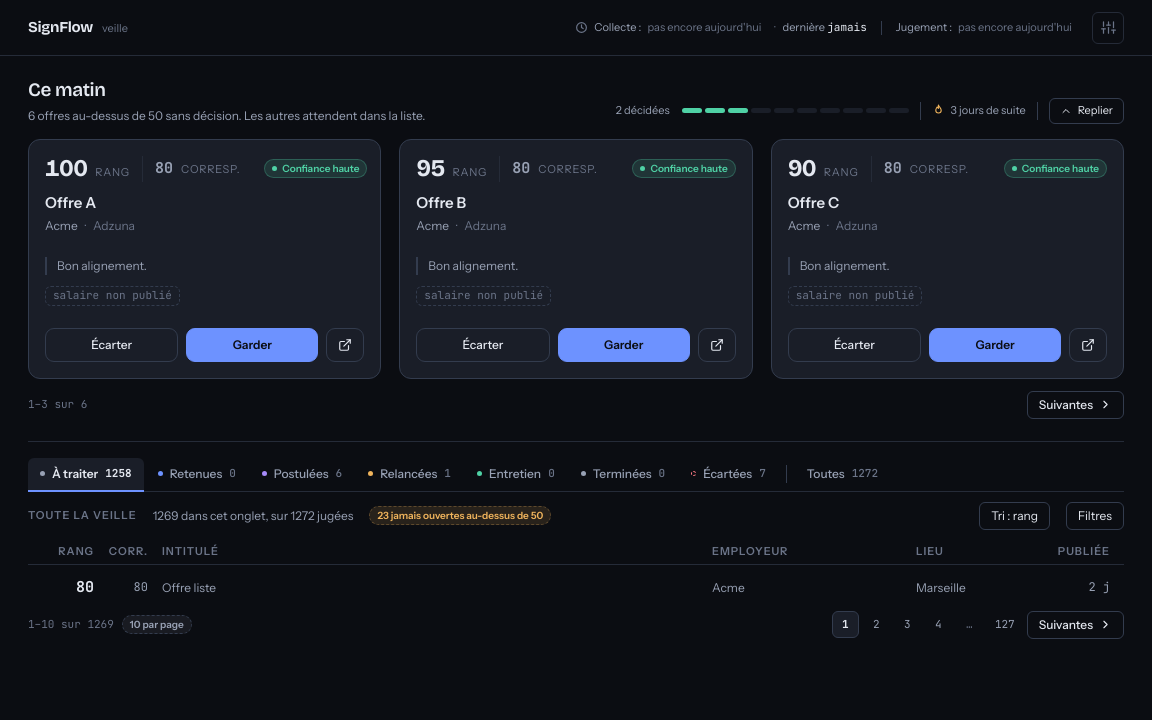
Test: MatinScreen › "Garder" appelle openOffer puis patchApplication({ status: "retenue" }), et retire la carte
Expected: the button "Offre A" is shown, x1=45 y1=193 x2=96 y2=212
What coordinates should you click on to do the following:
click the button "Garder" below "100"
I would click on:
 (252, 345)
Its box is x1=186 y1=328 x2=318 y2=362.
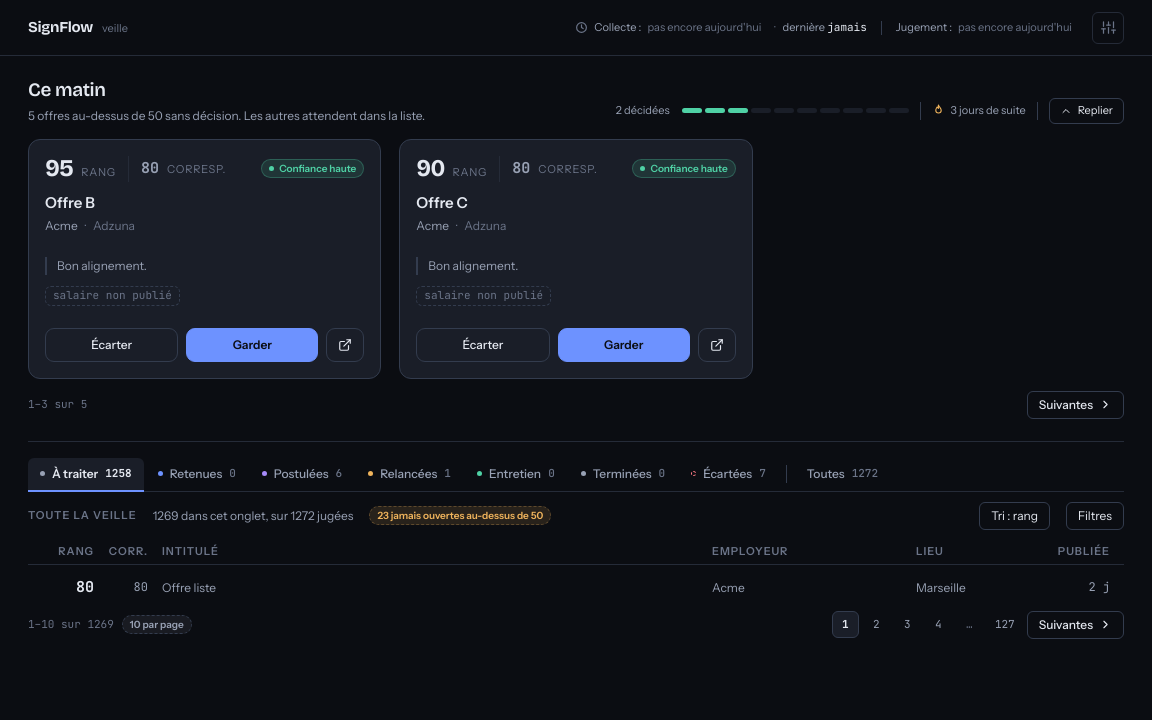
Now the button "Offre A" is gone
